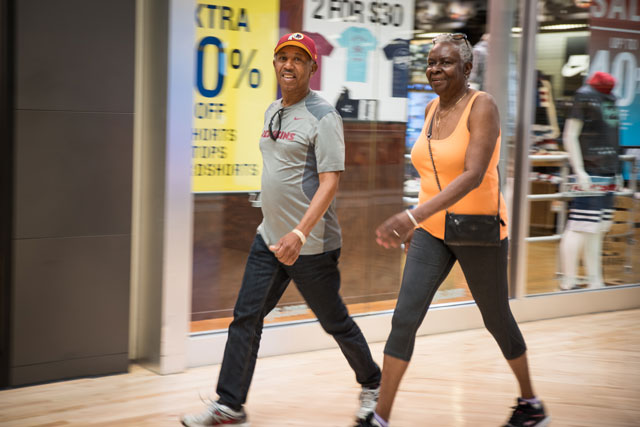Person: (376, 40, 539, 427), (208, 38, 364, 421)
